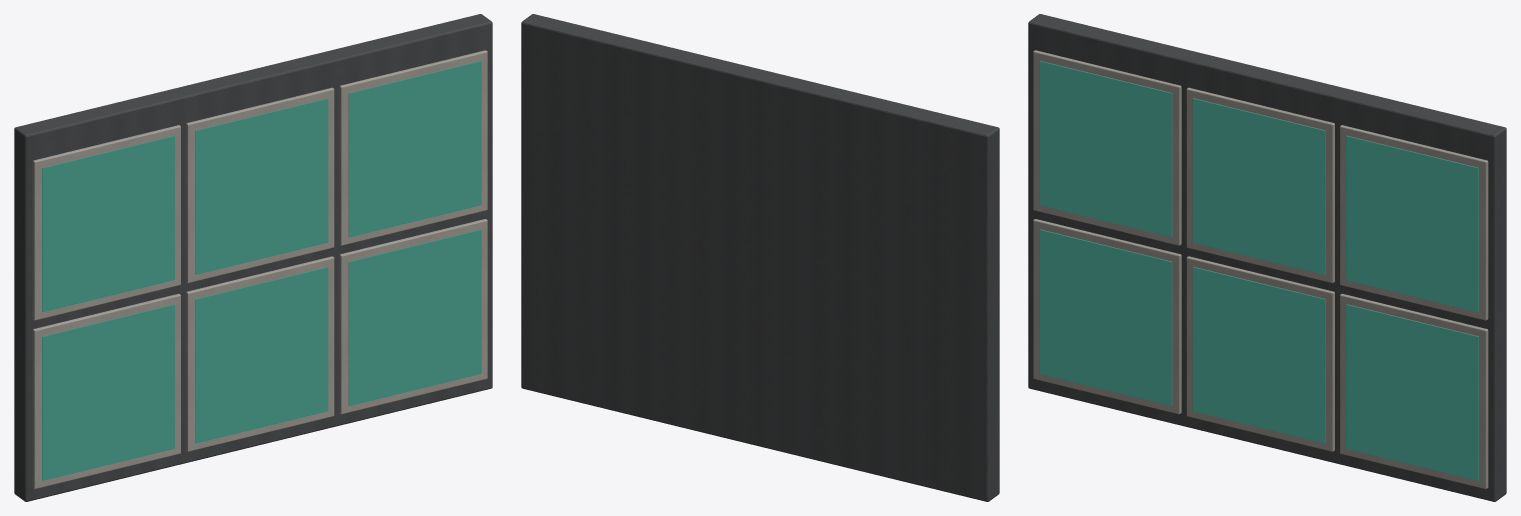
The model's file is screen_wall.glb.
The picture shows the model from 3 angles, left to right: view 1: azimuth 30°, elevation 25°; view 2: azimuth 150°, elevation 25°; view 3: azimuth 330°, elevation 25°; orthographic projection.
Visible parts, largest first — view 1: wall_housing, display_screen_01_00, display_screen_01_01, display_screen_02_00, display_screen_02_01, display_screen_00_01, display_screen_00_00, display_frame.003, display_frame.002, display_frame.005, display_frame.004, display_frame (+1 smaller); view 2: wall_housing; view 3: wall_housing, display_screen_01_00, display_screen_00_00, display_screen_00_01, display_screen_01_01, display_screen_02_01, display_screen_02_00, display_frame.003, display_frame.001, display_frame.002, display_frame, display_frame.004 (+1 smaller).
Part boxes in pixels (x1,y1,x2,y2): wall_housing: [14, 14, 492, 501]; display_screen_01_00: [195, 266, 328, 443]; display_screen_01_01: [195, 98, 328, 274]; display_screen_02_00: [348, 229, 481, 405]; display_screen_02_01: [348, 60, 481, 237]; display_screen_00_01: [42, 135, 174, 311]; display_screen_00_00: [42, 304, 174, 480]; display_frame.003: [186, 87, 334, 283]; display_frame.002: [186, 256, 334, 451]; display_frame.005: [339, 50, 487, 245]; display_frame.004: [339, 219, 487, 414]; display_frame: [32, 293, 180, 489]; wall_housing: [521, 14, 999, 501]; wall_housing: [1028, 14, 1506, 501]; display_screen_01_00: [1192, 266, 1325, 443]; display_screen_00_00: [1039, 229, 1172, 405]; display_screen_00_01: [1039, 60, 1172, 237]; display_screen_01_01: [1192, 98, 1325, 274]; display_screen_02_01: [1346, 135, 1478, 311]; display_screen_02_00: [1346, 304, 1478, 480]; display_frame.003: [1186, 87, 1334, 283]; display_frame.001: [1033, 50, 1181, 245]; display_frame.002: [1186, 256, 1334, 451]; display_frame: [1033, 219, 1181, 414]; display_frame.004: [1340, 293, 1488, 489].
Size of the model in its own units: 3.6 by 2.7 by 0.1935.
Materials: 3 (2 with a texture image).
